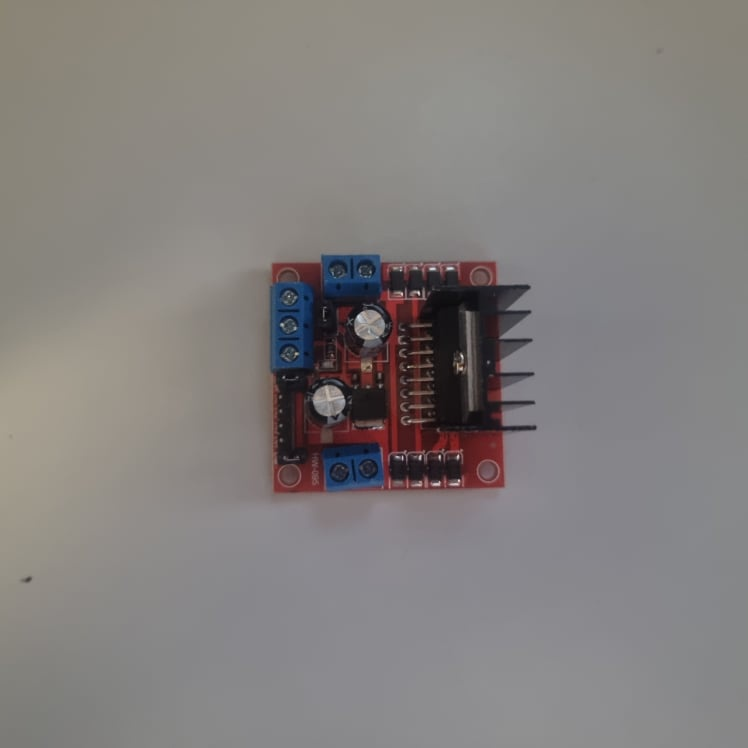MOTOR: (265, 254, 538, 491)
